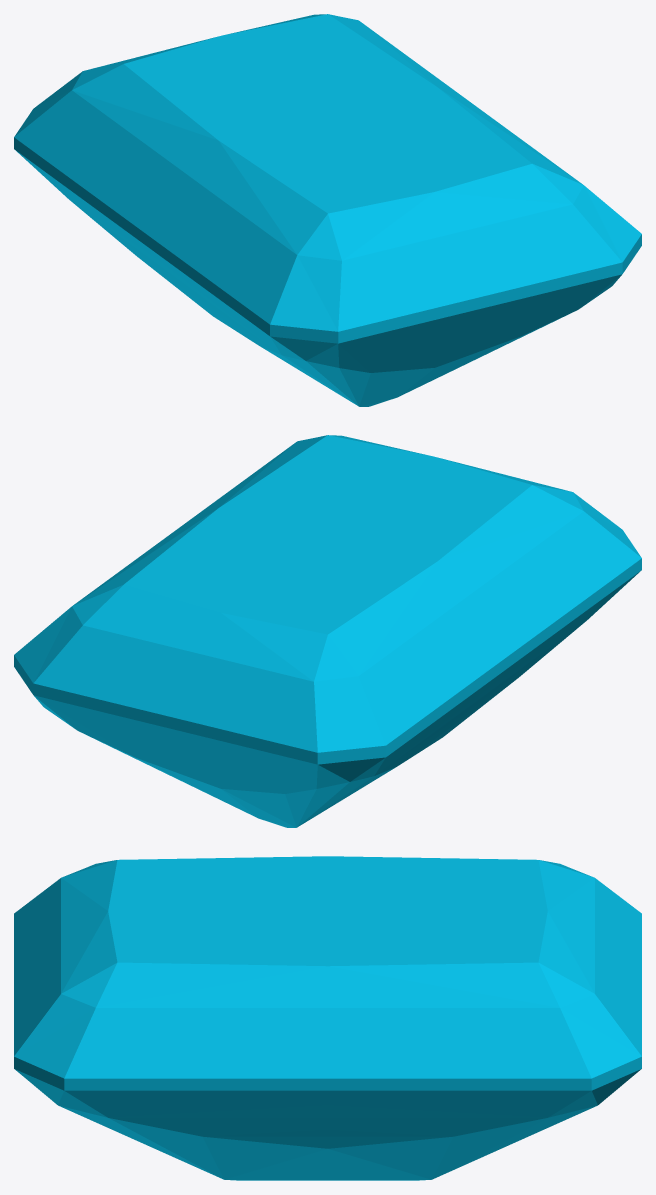
File: Head_Single Halo_Radiant_3.0ct_Diamond.glb
3 views of the same model, one above another, from view 1: azimuth 30°, elevation 25°; view 2: azimuth 150°, elevation 25°; view 3: azimuth 270°, elevation 25° (orthographic). The views are drawn at different scales.
Size of the model in its own units: 0.00731 by 0.00492 by 0.0104.
